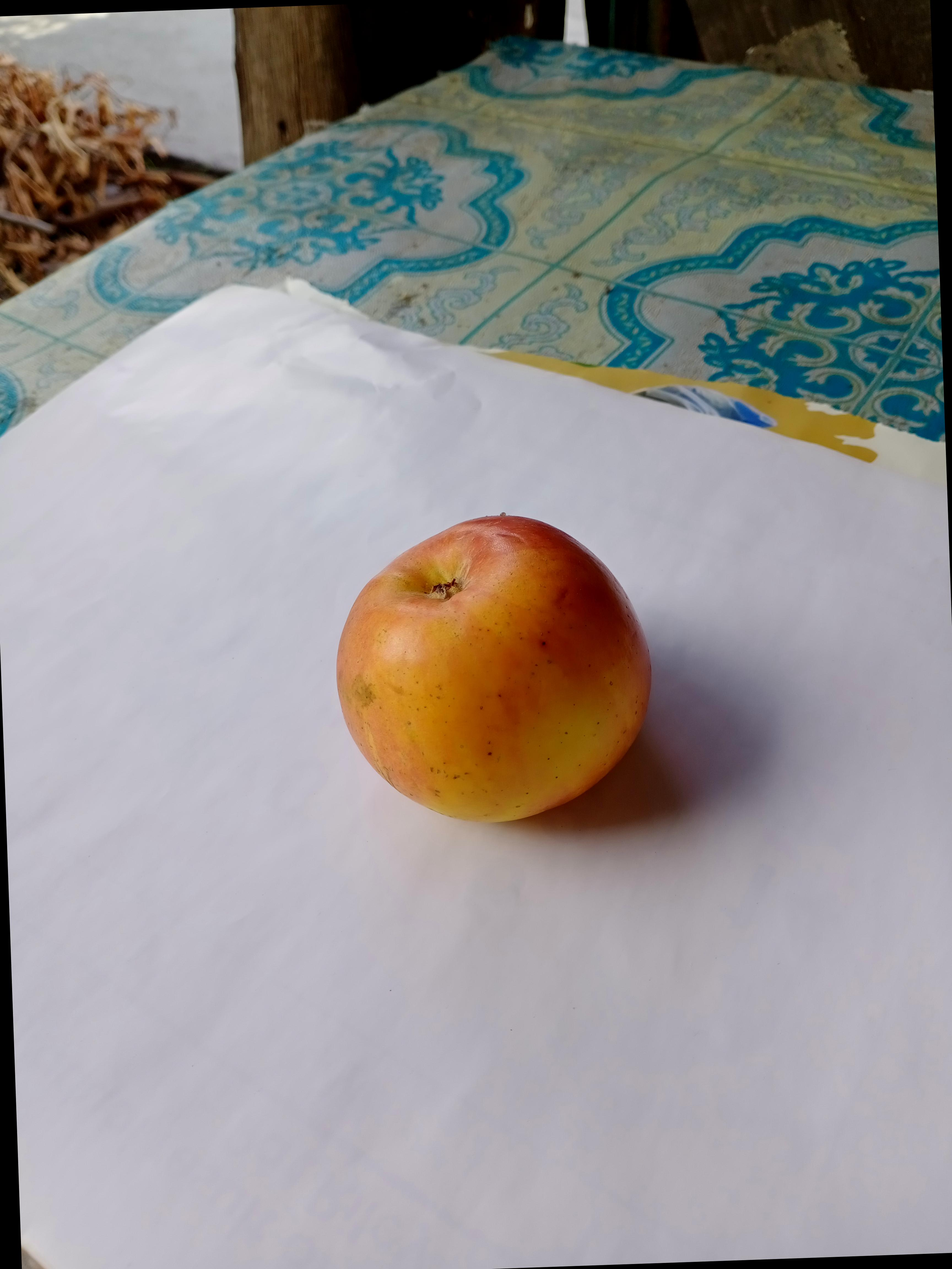Apple Ripe: (293, 524, 649, 872)
